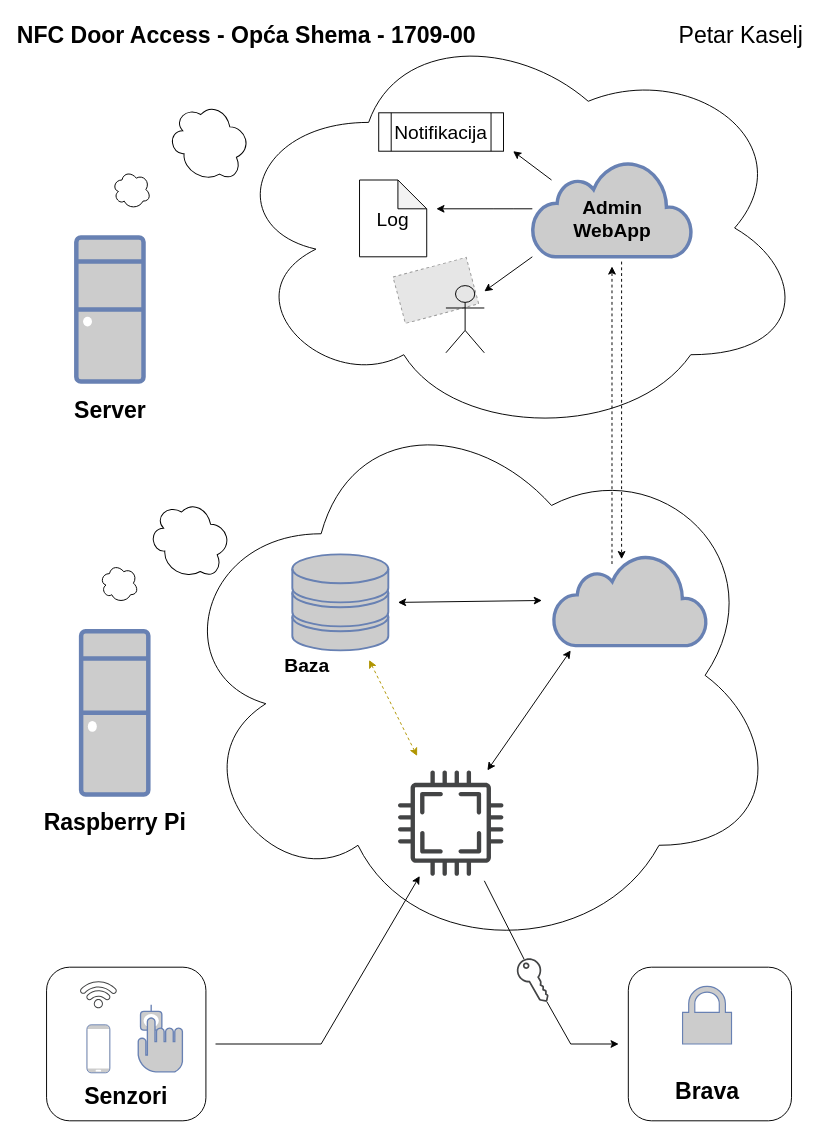
The diagram is 825 pixels wide and 1138 high, and some of its shapes have lost their labels. Grey dashed boxes stand in for pictures. The centre of each missing label's shape, as x and y in pixels:
"Alarm" belongs at point 464,319.
"WebAPI" belongs at point 630,599.
